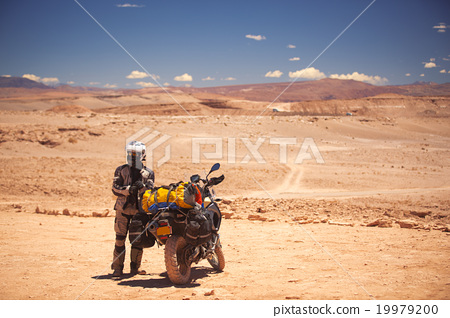helmet: (124, 137, 149, 166)
